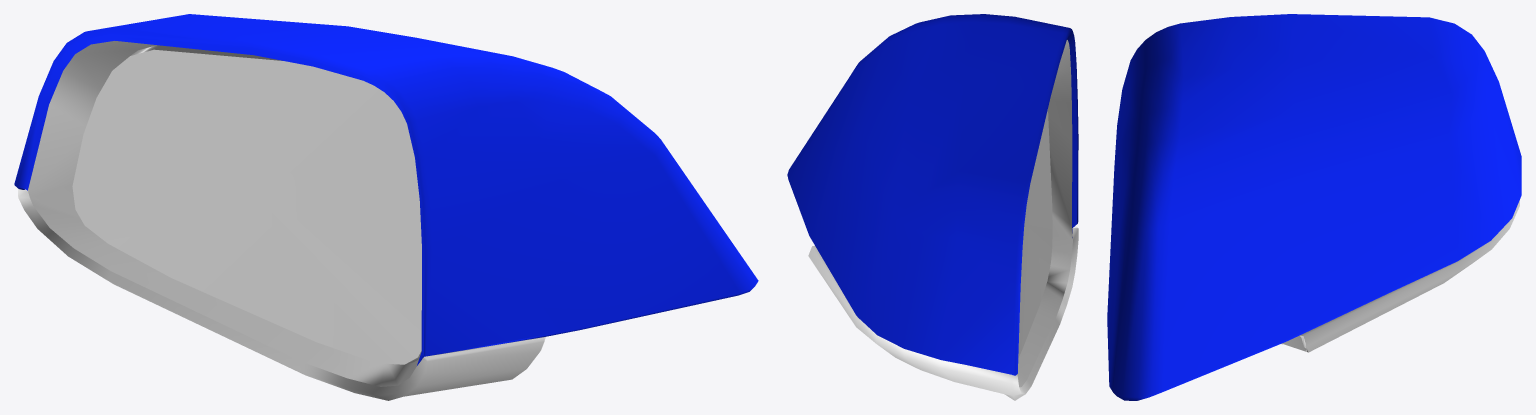
The model's file is Door_LF_Mirror.obj.
3 views of the same model, side by side, from view 1: azimuth 30°, elevation 25°; view 2: azimuth 150°, elevation 25°; view 3: azimuth 270°, elevation 25° (orthographic). The views are drawn at different scales.
Parts seen in each view (by area): view 1: Door_LF_Mirror; view 2: Door_LF_Mirror; view 3: Door_LF_Mirror.
Part boxes in pixels (box(x1,y1,x2,y2)): Door_LF_Mirror: box(14, 14, 758, 400); Door_LF_Mirror: box(787, 14, 1078, 400); Door_LF_Mirror: box(1107, 14, 1521, 400).
Size of the model in its own units: 0.2474 by 0.1548 by 0.2107.
